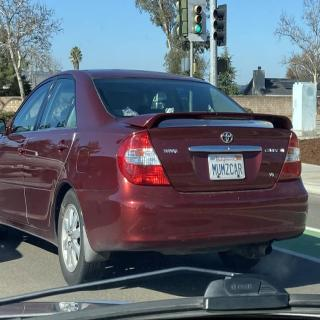license: (208, 154, 246, 181)
